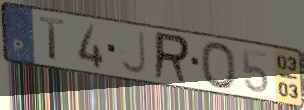4: (76, 21, 107, 71)
5: (240, 47, 271, 95)
J: (119, 29, 149, 77)
O: (198, 40, 240, 91)
R: (151, 30, 193, 87)
T: (38, 14, 68, 64)
